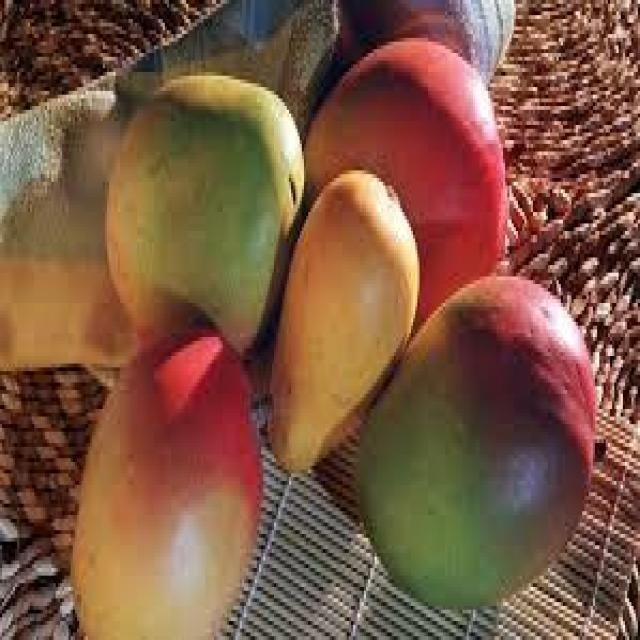Mango: (353, 272, 595, 610), (68, 326, 262, 636), (103, 72, 304, 356), (305, 40, 507, 321), (269, 170, 420, 469)
